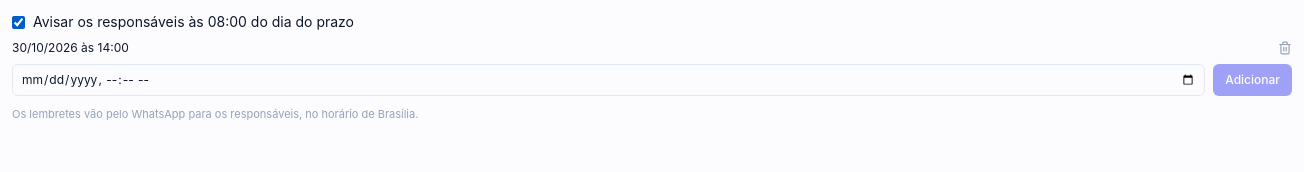
Test: horário no passado não é gravado
Check: the text "30/10/2026 às 14:00" is shown, box x1=12 y1=40 x2=129 y2=56
Type "2020-01-01T09:00" into the field named "Novo lembrete" at x=609, y=80, box x1=12 y1=64 x2=1205 y2=96
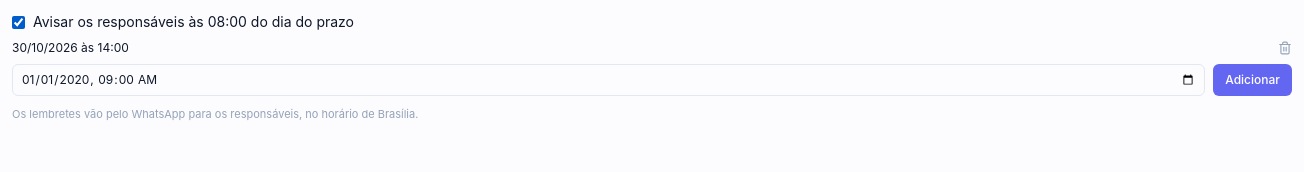
Click the button "Adicionar" at x=1253, y=80, box x1=1213 y1=64 x2=1292 y2=96
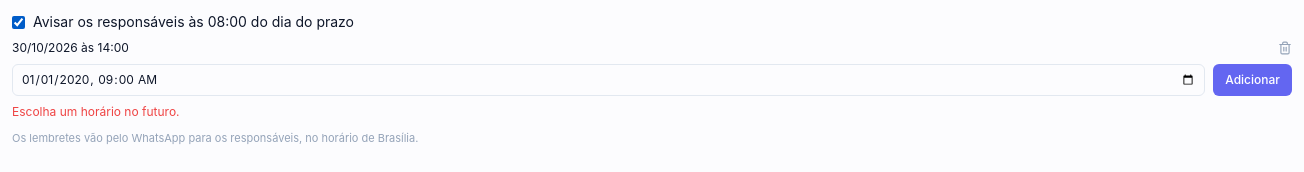
Check: the text "Escolha um horário no futuro." is shown, box x1=12 y1=104 x2=180 y2=119
